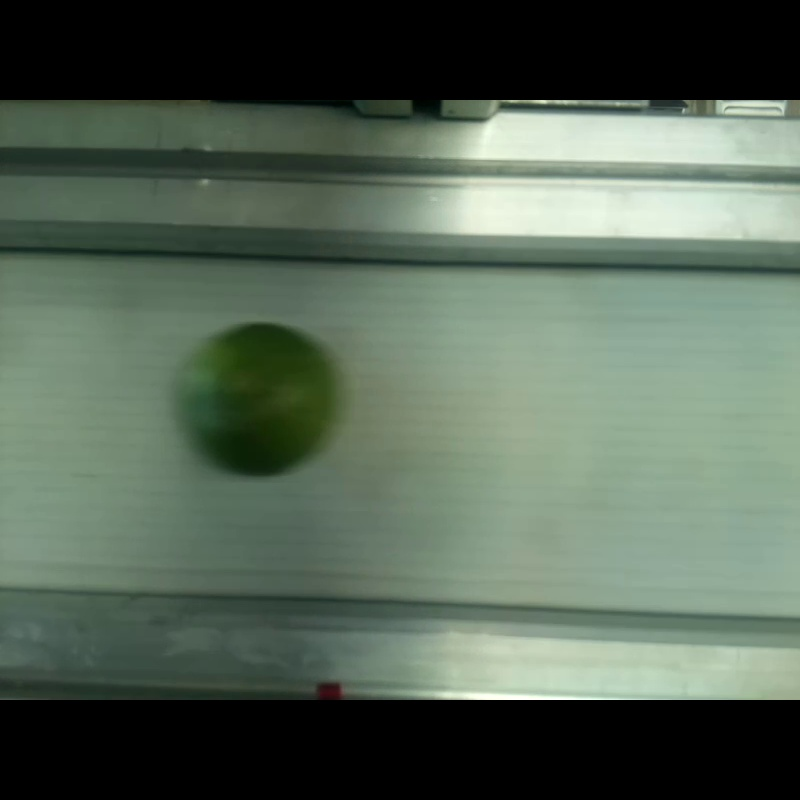lime: (181, 323, 335, 477)
